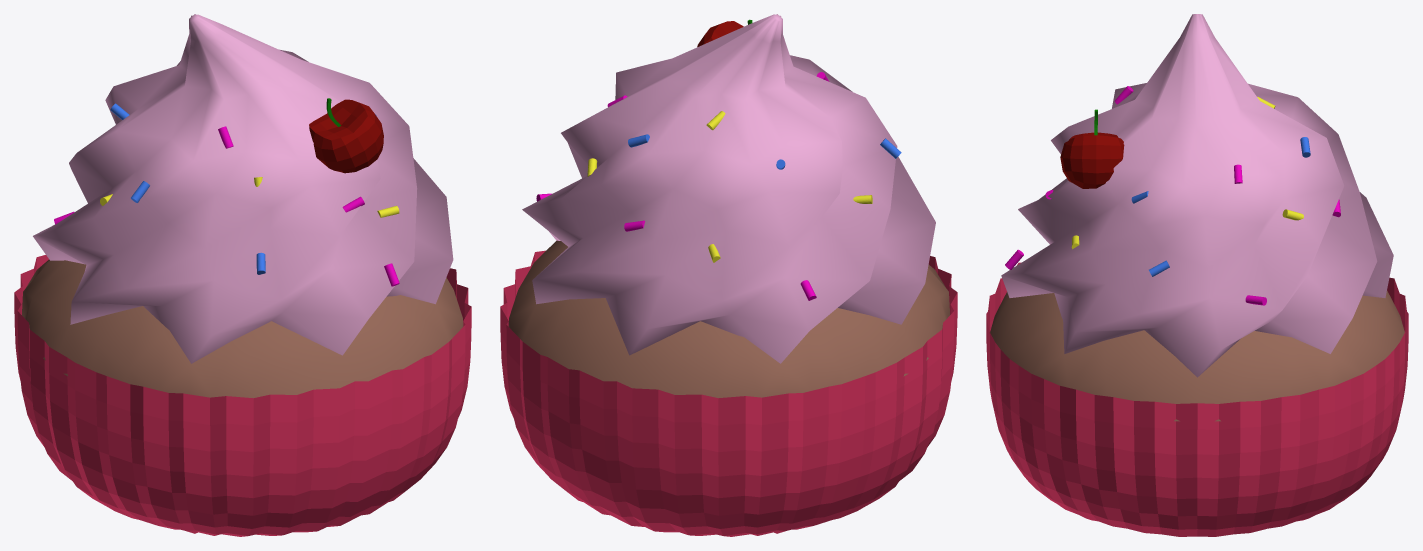
Rendered from Cupcake.fbx.
3 renders of one model, left to right at view 1: azimuth 30°, elevation 25°; view 2: azimuth 150°, elevation 25°; view 3: azimuth 270°, elevation 25°, orthographic. The views are drawn at different scales.
Visible parts, largest first — view 1: frosting, cup, cake, Cherry; view 2: frosting, cup, cake; view 3: frosting, cup, cake, Cherry.
Boxes of the visible parts, x1,y1,x2,y2 form: frosting: (33,14,453,363); cup: (14,255,471,536); cake: (22,259,463,398); Cherry: (309,99,383,173); frosting: (522,14,935,363); cup: (500,250,957,536); cake: (508,240,949,398); frosting: (1001,14,1393,377); cup: (986,262,1408,536); cake: (990,290,1404,421); Cherry: (1060,132,1124,188).
Size of the model in its own units: 275 by 323 by 275.
